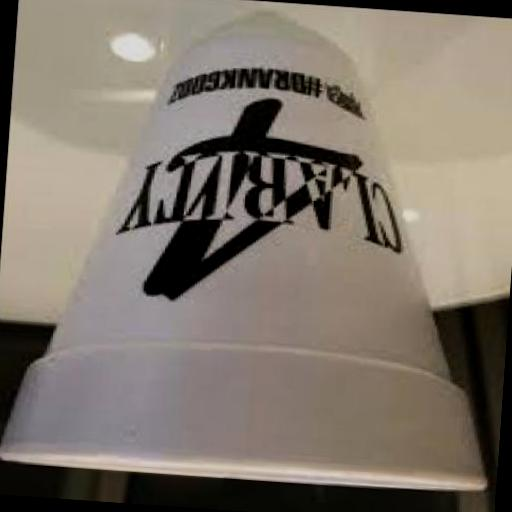paper: (1, 3, 512, 496)
